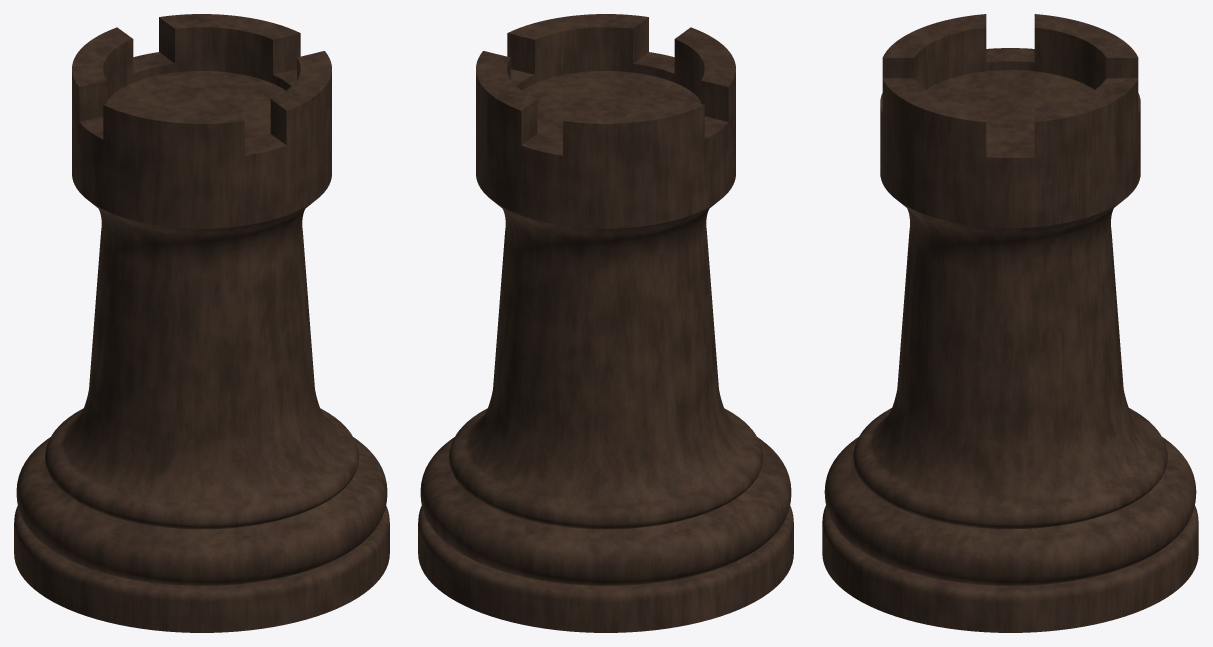
File: turm_schwarz.glb
The picture shows the model from 3 angles, left to right: view 1: azimuth 30°, elevation 25°; view 2: azimuth 150°, elevation 25°; view 3: azimuth 270°, elevation 25°; orthographic projection.
Visible parts, largest first — view 1: turm_schwarz; view 2: turm_schwarz; view 3: turm_schwarz.
Part boxes in pixels (bbox=[...]): turm_schwarz: bbox=[14, 14, 389, 632]; turm_schwarz: bbox=[418, 14, 793, 632]; turm_schwarz: bbox=[822, 14, 1198, 632].
Bounding box in the file's own units: 0.78 × 1.11 × 0.78.
Materials: 1 (1 with a texture image).
